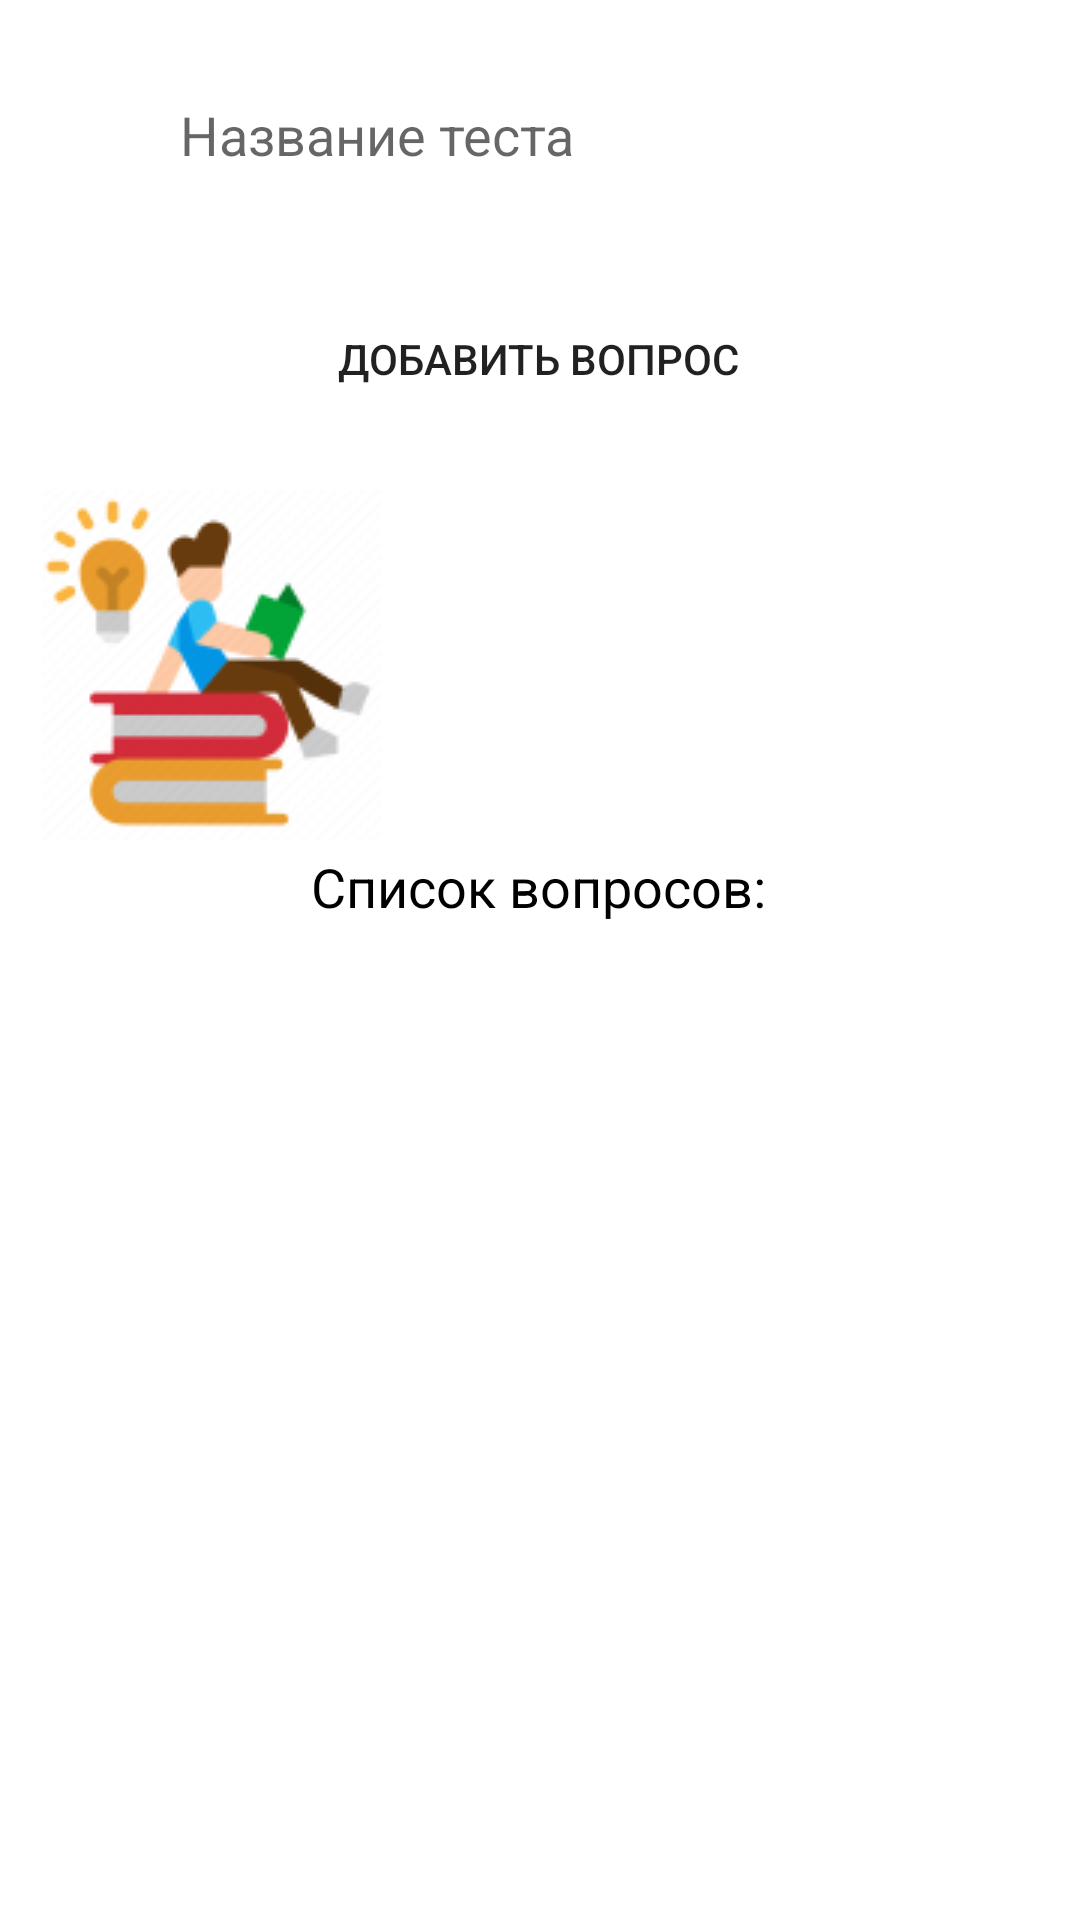

Named icons in this screenshot (1080px×1920px) and their bounding boxes, (left=x1, top=y1, right=x2, bottom=y2):
Картинка: (left=45, top=499, right=370, bottom=827)
